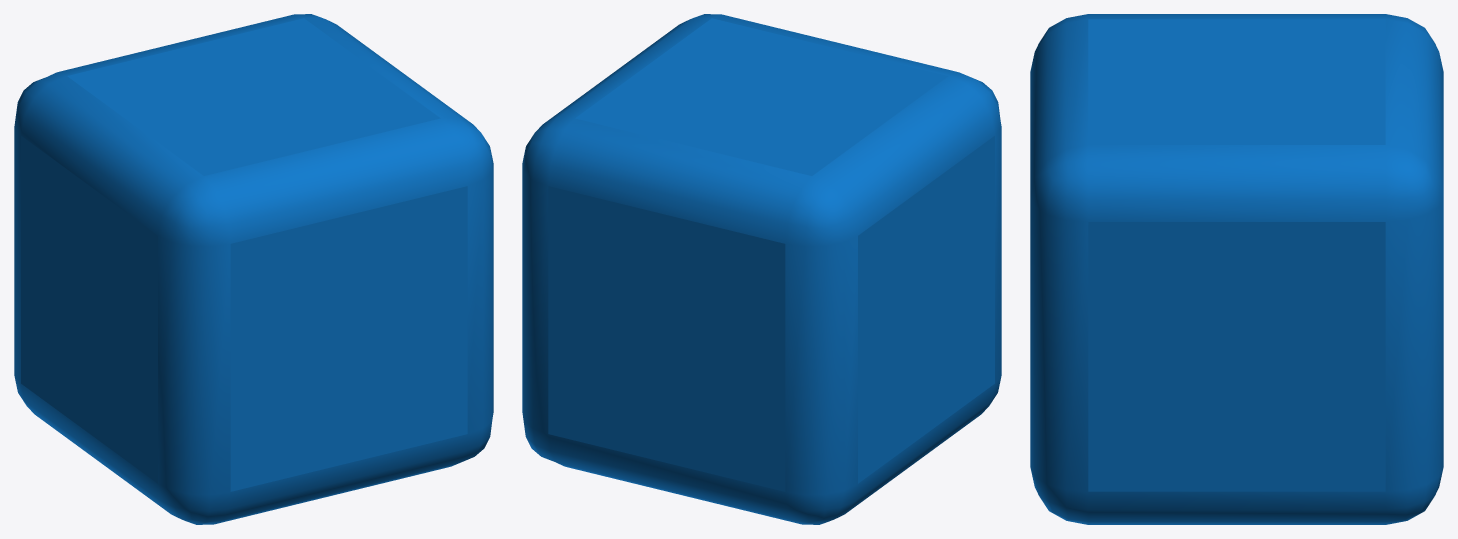
The picture shows the model from 3 angles, left to right: view 1: azimuth 30°, elevation 25°; view 2: azimuth 150°, elevation 25°; view 3: azimuth 270°, elevation 25°; orthographic projection. The views are drawn at different scales.
Parts seen in each view (by area): view 1: Cube; view 2: Cube; view 3: Cube.
Boxes of the visible parts, x1=… form: Cube: x1=14, y1=14, x2=493, y2=524; Cube: x1=522, y1=14, x2=1001, y2=524; Cube: x1=1030, y1=14, x2=1443, y2=524.
Bounding box in the file's own units: 10 × 10 × 10.
